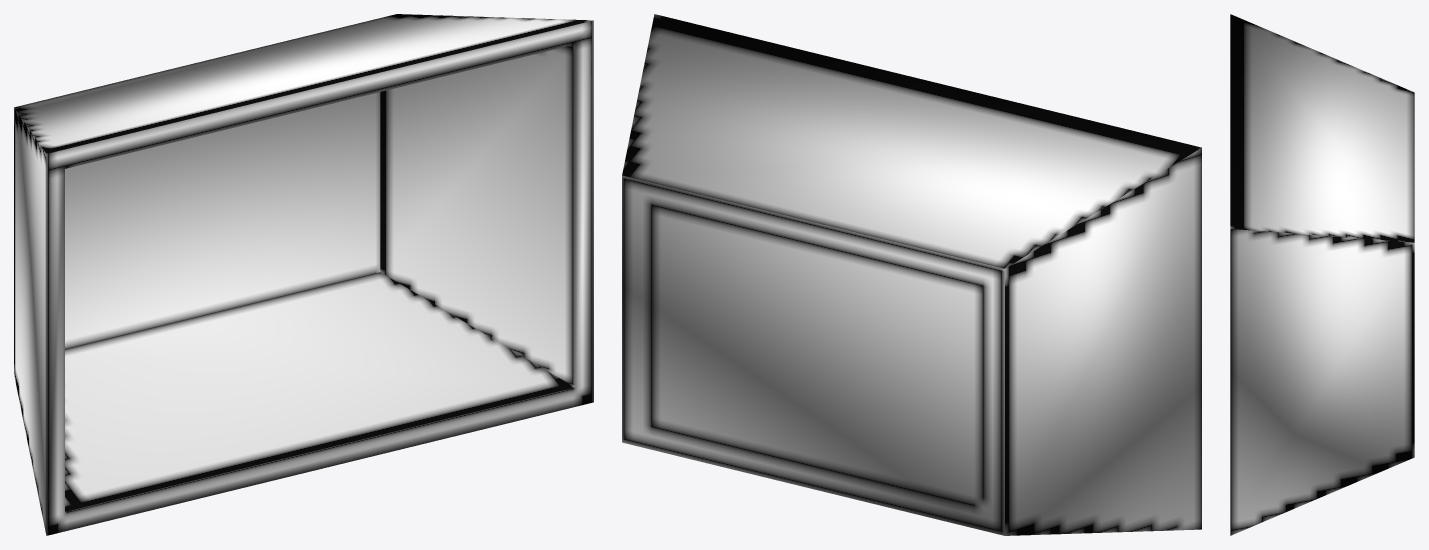
The model's file is Basket.obj.
3 views of the same model, side by side, from view 1: azimuth 30°, elevation 25°; view 2: azimuth 150°, elevation 25°; view 3: azimuth 270°, elevation 25° (orthographic). The views are drawn at different scales.
Visible parts, largest first — view 1: Cube1; view 2: Cube1; view 3: Cube1.
Part boxes in pixels (x1,y1,x2,y2): Cube1: (14, 14, 593, 535); Cube1: (622, 14, 1201, 535); Cube1: (1230, 14, 1414, 535).
Bounding box in the file's own units: 4.29 × 2.86 × 1.56.
Materials: 1 (1 with a texture image).
